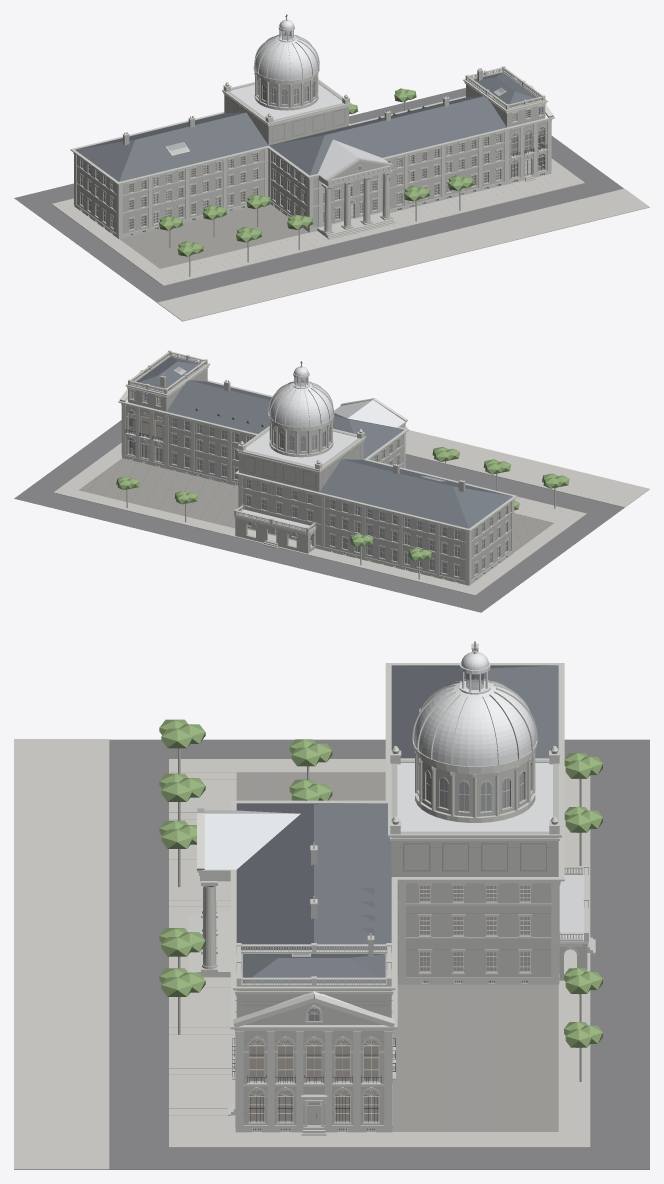
Rendered from clay-old-montreal-limestone-commercial-clay-v003.glb.
3 renders of one model, top to bottom at view 1: azimuth 30°, elevation 25°; view 2: azimuth 150°, elevation 25°; view 3: azimuth 270°, elevation 25°, orthographic. The views are drawn at different scales.
Parts seen in each view (by area): view 1: CLAY_CONCRETE, CLAY_WALL, CLAY_STONE, CLAY_ROOF, CLAY_ASPHALT, CLAY_COBBLE, CLAY_GLASS, CLAY_METAL, CLAY_FRAME, CLAY_PLANTING, CLAY_FLOOR, CLAY_TRIM (+1 smaller); view 2: CLAY_WALL, CLAY_ASPHALT, CLAY_STONE, CLAY_ROOF, CLAY_CONCRETE, CLAY_COBBLE, CLAY_GLASS, CLAY_METAL, CLAY_FRAME, CLAY_PLANTING, CLAY_TRIM, CLAY_FLOOR (+1 smaller); view 3: CLAY_CONCRETE, CLAY_ASPHALT, CLAY_STONE, CLAY_WALL, CLAY_ROOF, CLAY_COBBLE, CLAY_METAL, CLAY_PLANTING, CLAY_GLASS, CLAY_FLOOR, CLAY_FRAME, CLAY_JOINT (+5 smaller).
Part boxes in pixels (left/top/right/bottom): CLAY_CONCRETE: left=52, top=158, right=649, bottom=321; CLAY_WALL: left=76, top=71, right=547, bottom=236; CLAY_STONE: left=70, top=65, right=554, bottom=239; CLAY_ROOF: left=75, top=72, right=539, bottom=181; CLAY_ASPHALT: left=14, top=88, right=623, bottom=302; CLAY_COBBLE: left=119, top=204, right=308, bottom=268; CLAY_GLASS: left=81, top=31, right=544, bottom=234; CLAY_METAL: left=230, top=19, right=547, bottom=180; CLAY_FRAME: left=81, top=81, right=545, bottom=229; CLAY_PLANTING: left=159, top=88, right=473, bottom=256; CLAY_FLOOR: left=129, top=113, right=544, bottom=228; CLAY_TRIM: left=253, top=30, right=319, bottom=80; CLAY_WALL: left=126, top=356, right=511, bottom=582; CLAY_ASPHALT: left=14, top=420, right=624, bottom=612; CLAY_STONE: left=118, top=350, right=517, bottom=585; CLAY_ROOF: left=134, top=356, right=512, bottom=528; CLAY_CONCRETE: left=53, top=430, right=649, bottom=595; CLAY_COBBLE: left=79, top=458, right=553, bottom=552; CLAY_GLASS: left=128, top=367, right=506, bottom=581; CLAY_METAL: left=125, top=366, right=405, bottom=466; CLAY_FRAME: left=128, top=367, right=506, bottom=576; CLAY_PLANTING: left=116, top=447, right=569, bottom=561; CLAY_TRIM: left=268, top=376, right=334, bottom=427; CLAY_FLOOR: left=129, top=398, right=161, bottom=460; CLAY_CONCRETE: left=14, top=739, right=590, bottom=1169; CLAY_ASPHALT: left=109, top=739, right=649, bottom=1169; CLAY_STONE: left=189, top=643, right=595, bottom=1135; CLAY_WALL: left=236, top=649, right=587, bottom=1131; CLAY_ROOF: left=236, top=665, right=558, bottom=983; CLAY_COBBLE: left=236, top=772, right=558, bottom=1131; CLAY_METAL: left=202, top=650, right=552, bottom=1009; CLAY_PLANTING: left=159, top=719, right=602, bottom=1047; CLAY_GLASS: left=249, top=673, right=529, bottom=1130; CLAY_FLOOR: left=249, top=886, right=530, bottom=1120; CLAY_FRAME: left=249, top=708, right=530, bottom=1122; CLAY_JOINT: left=169, top=772, right=552, bottom=1131.
Size of the model in its own units: 128 by 42.5 by 80.
